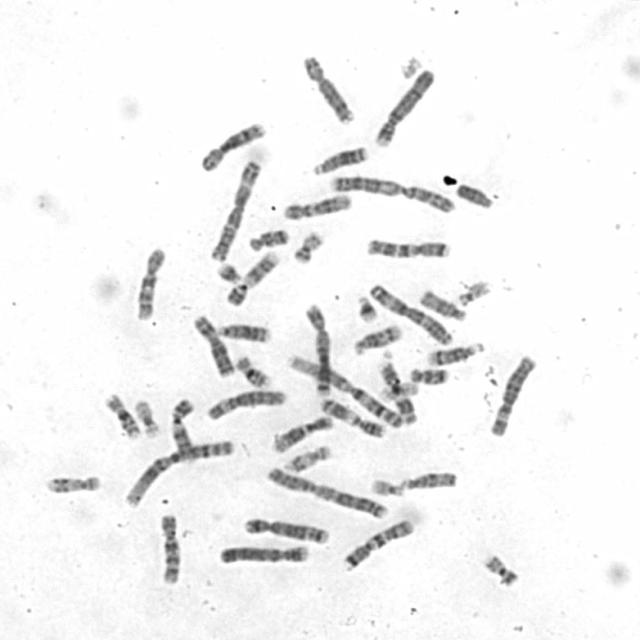A1: (282, 351, 403, 430), (123, 437, 234, 512)
A2: (268, 466, 389, 519), (327, 176, 455, 217)
A3: (366, 282, 455, 346), (208, 158, 261, 264)
B4: (371, 65, 436, 150), (216, 544, 312, 567)
B5: (297, 302, 336, 400), (240, 515, 330, 545)
C10: (131, 242, 170, 326), (159, 508, 185, 586)
C11: (374, 358, 419, 426), (319, 396, 387, 438)
C12: (265, 416, 334, 457), (280, 193, 352, 219)
C6: (486, 353, 535, 438), (205, 389, 288, 422)
C7: (335, 520, 420, 576), (362, 237, 454, 261)
C8: (196, 118, 268, 176), (299, 54, 355, 126)
C9: (224, 250, 282, 308), (170, 396, 197, 464)
D13: (310, 144, 369, 178), (212, 322, 276, 345)
D14: (352, 322, 405, 355), (426, 340, 488, 368)
D15: (417, 290, 468, 324), (398, 471, 460, 494)
E16: (102, 392, 142, 442), (235, 354, 274, 390)
E17: (281, 442, 334, 476), (38, 470, 106, 496)
E18: (247, 225, 289, 253), (406, 366, 452, 386)
F19: (132, 398, 165, 440), (379, 381, 420, 402)
F20: (478, 552, 524, 587), (290, 229, 326, 267)
G21: (355, 295, 380, 325), (213, 263, 244, 287)
G22: (456, 279, 492, 307), (365, 476, 407, 499)
X: (192, 312, 236, 378)
Y: (454, 182, 497, 212)
